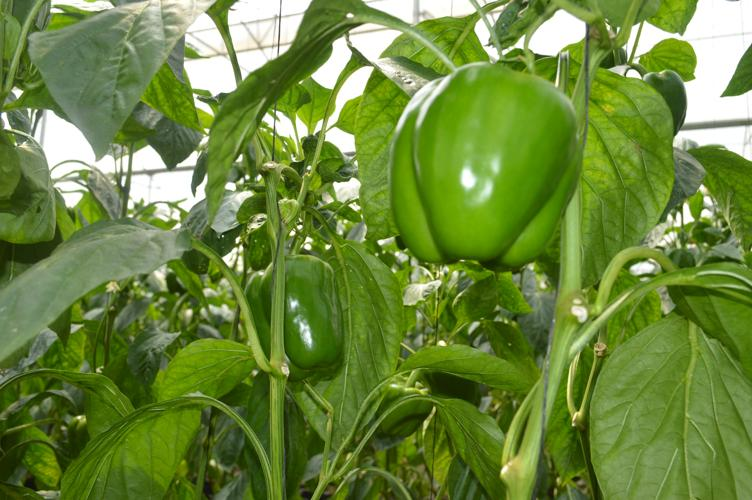BellPepper: (387, 63, 582, 269), (242, 257, 345, 376), (636, 64, 692, 132)
